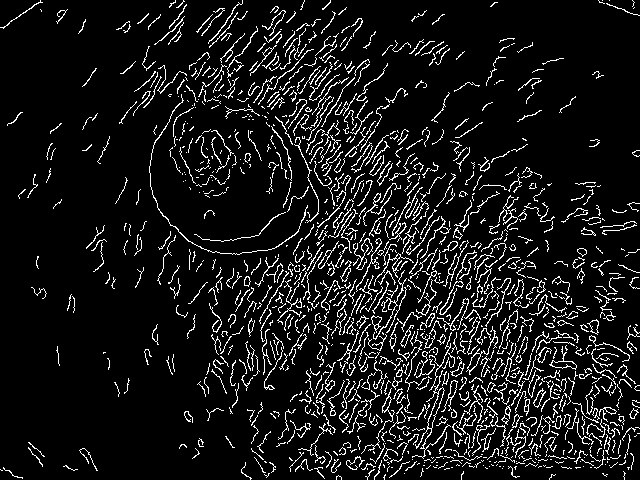onion: (135, 83, 326, 265)
